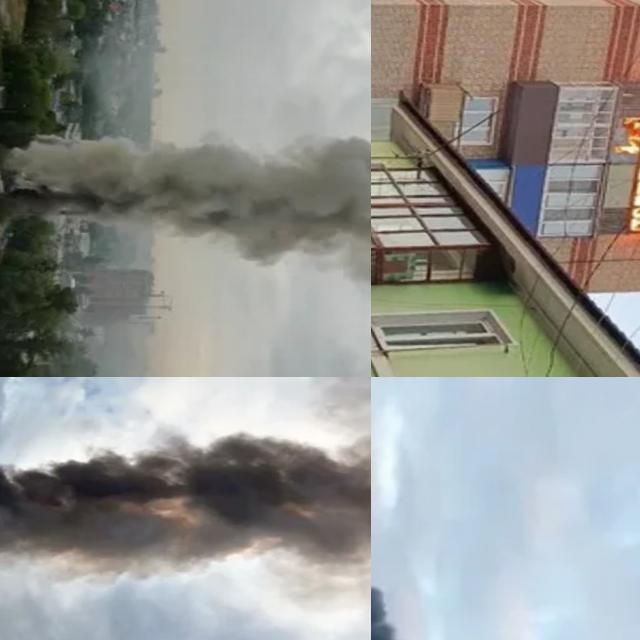smoke: (0, 103, 371, 295), (0, 418, 371, 586), (371, 499, 602, 640)
